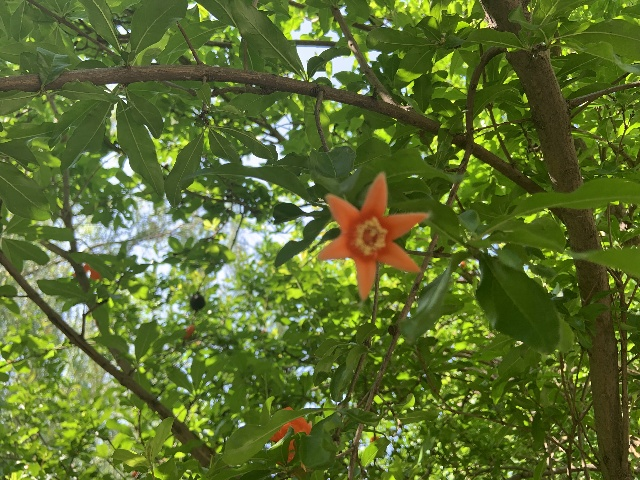flower: (319, 173, 426, 300), (270, 405, 311, 470)
